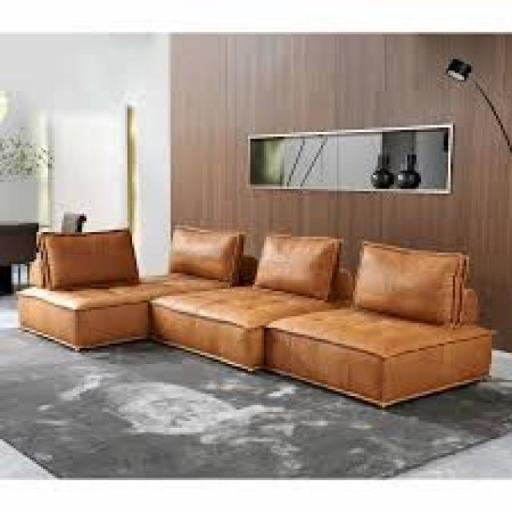sofa: (14, 194, 512, 476)
